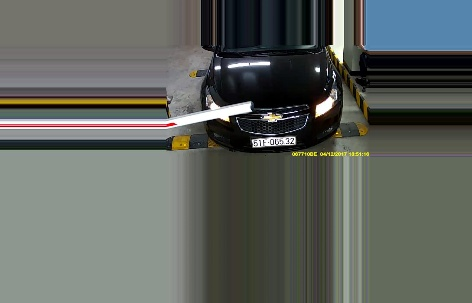plate: (248, 132, 298, 147)
